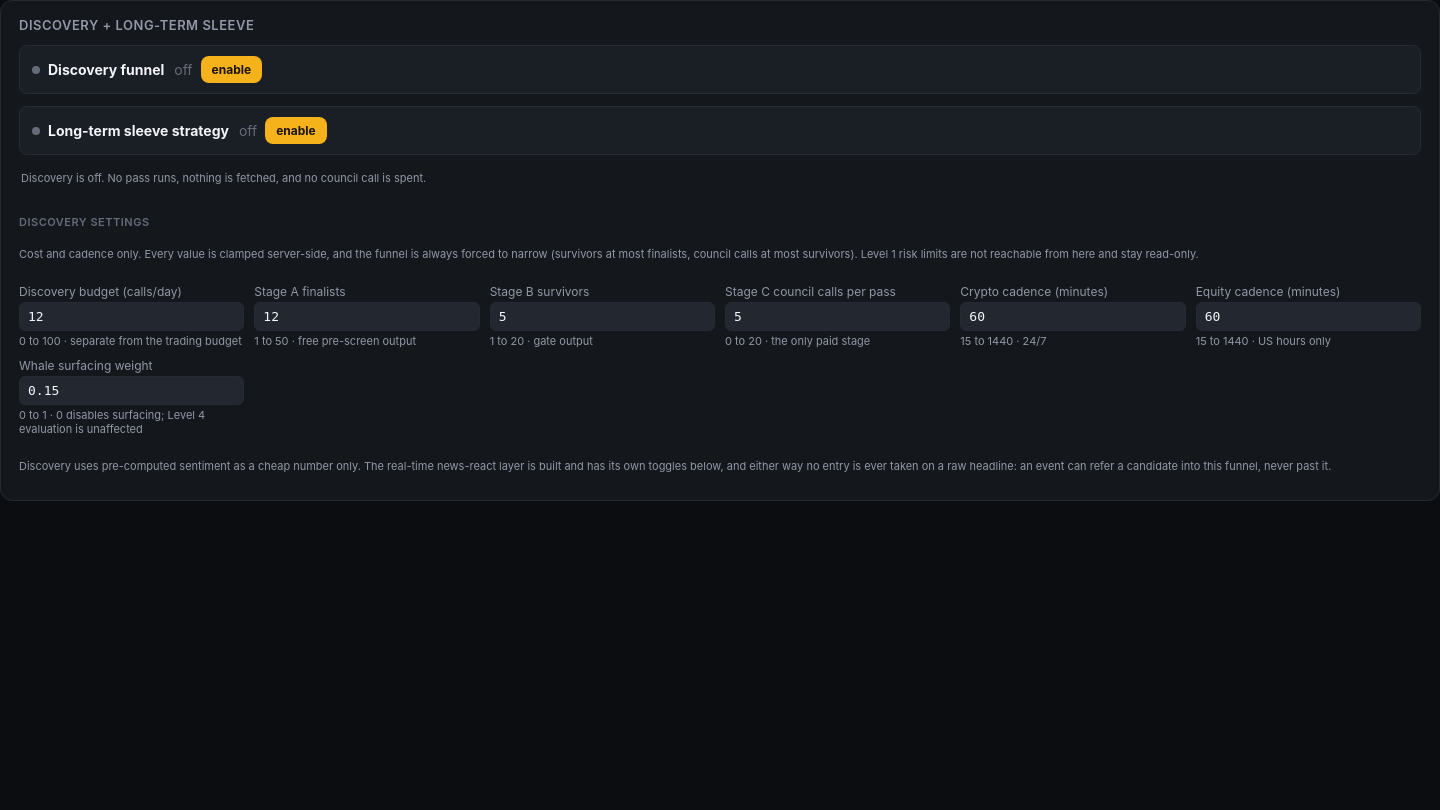
enable toggles ask before they spend › states what the long-term sleeve starts, including the hard cap
Click the button "enable" in the row of "Long-term sleeve strategy" at (296, 130), box [265, 117, 327, 144]
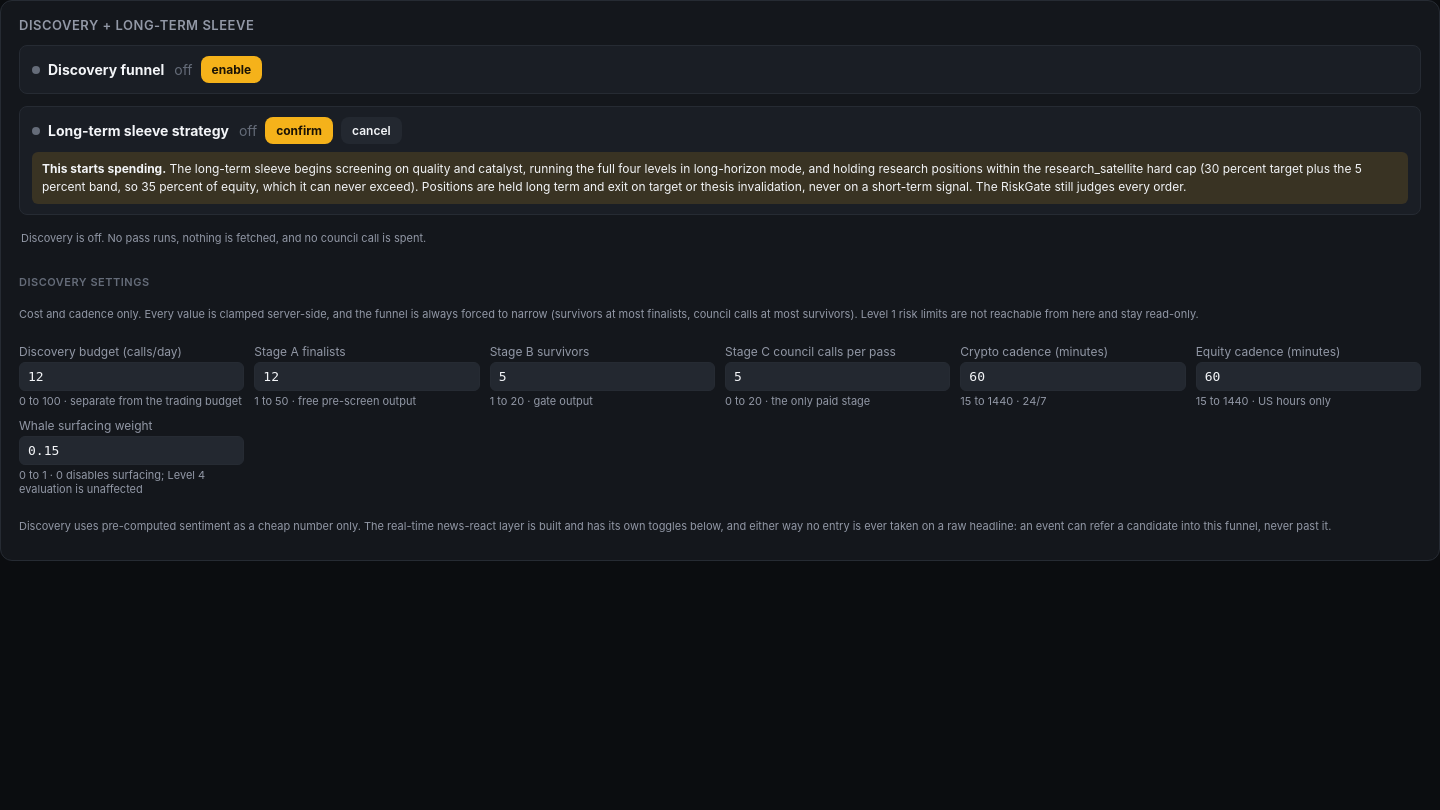
Expected: the element with test id "toggle-longterm-confirm" shows "quality and catalyst", [42, 161, 1362, 194]
Expected: the element with test id "toggle-longterm-confirm" shows "35 percent of equity", [42, 161, 1362, 194]
Expected: the element with test id "toggle-longterm-confirm" shows "can never exceed", [42, 161, 1362, 194]
